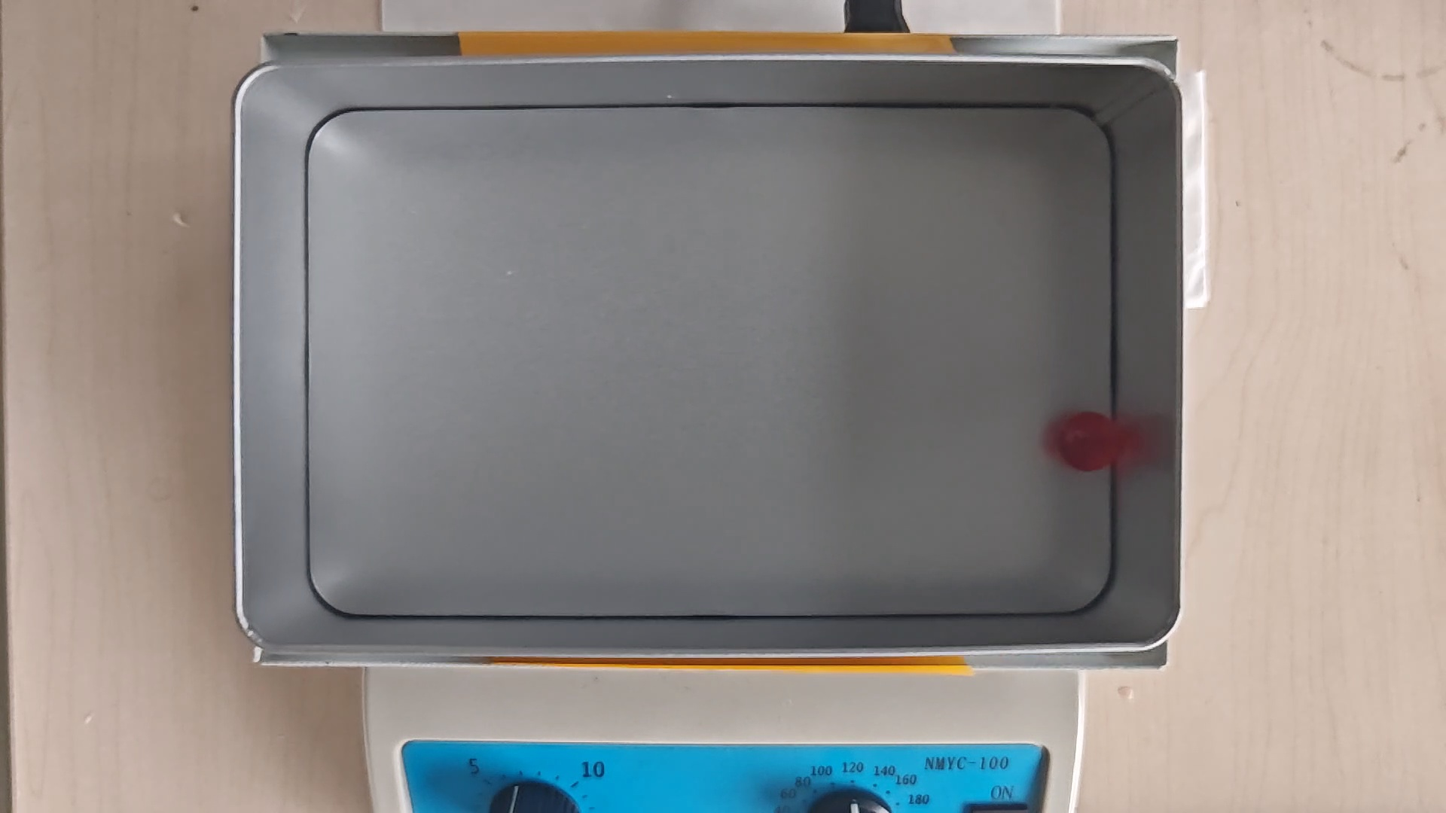ball: (1060, 412, 1121, 475)
container: (307, 104, 1115, 617)
